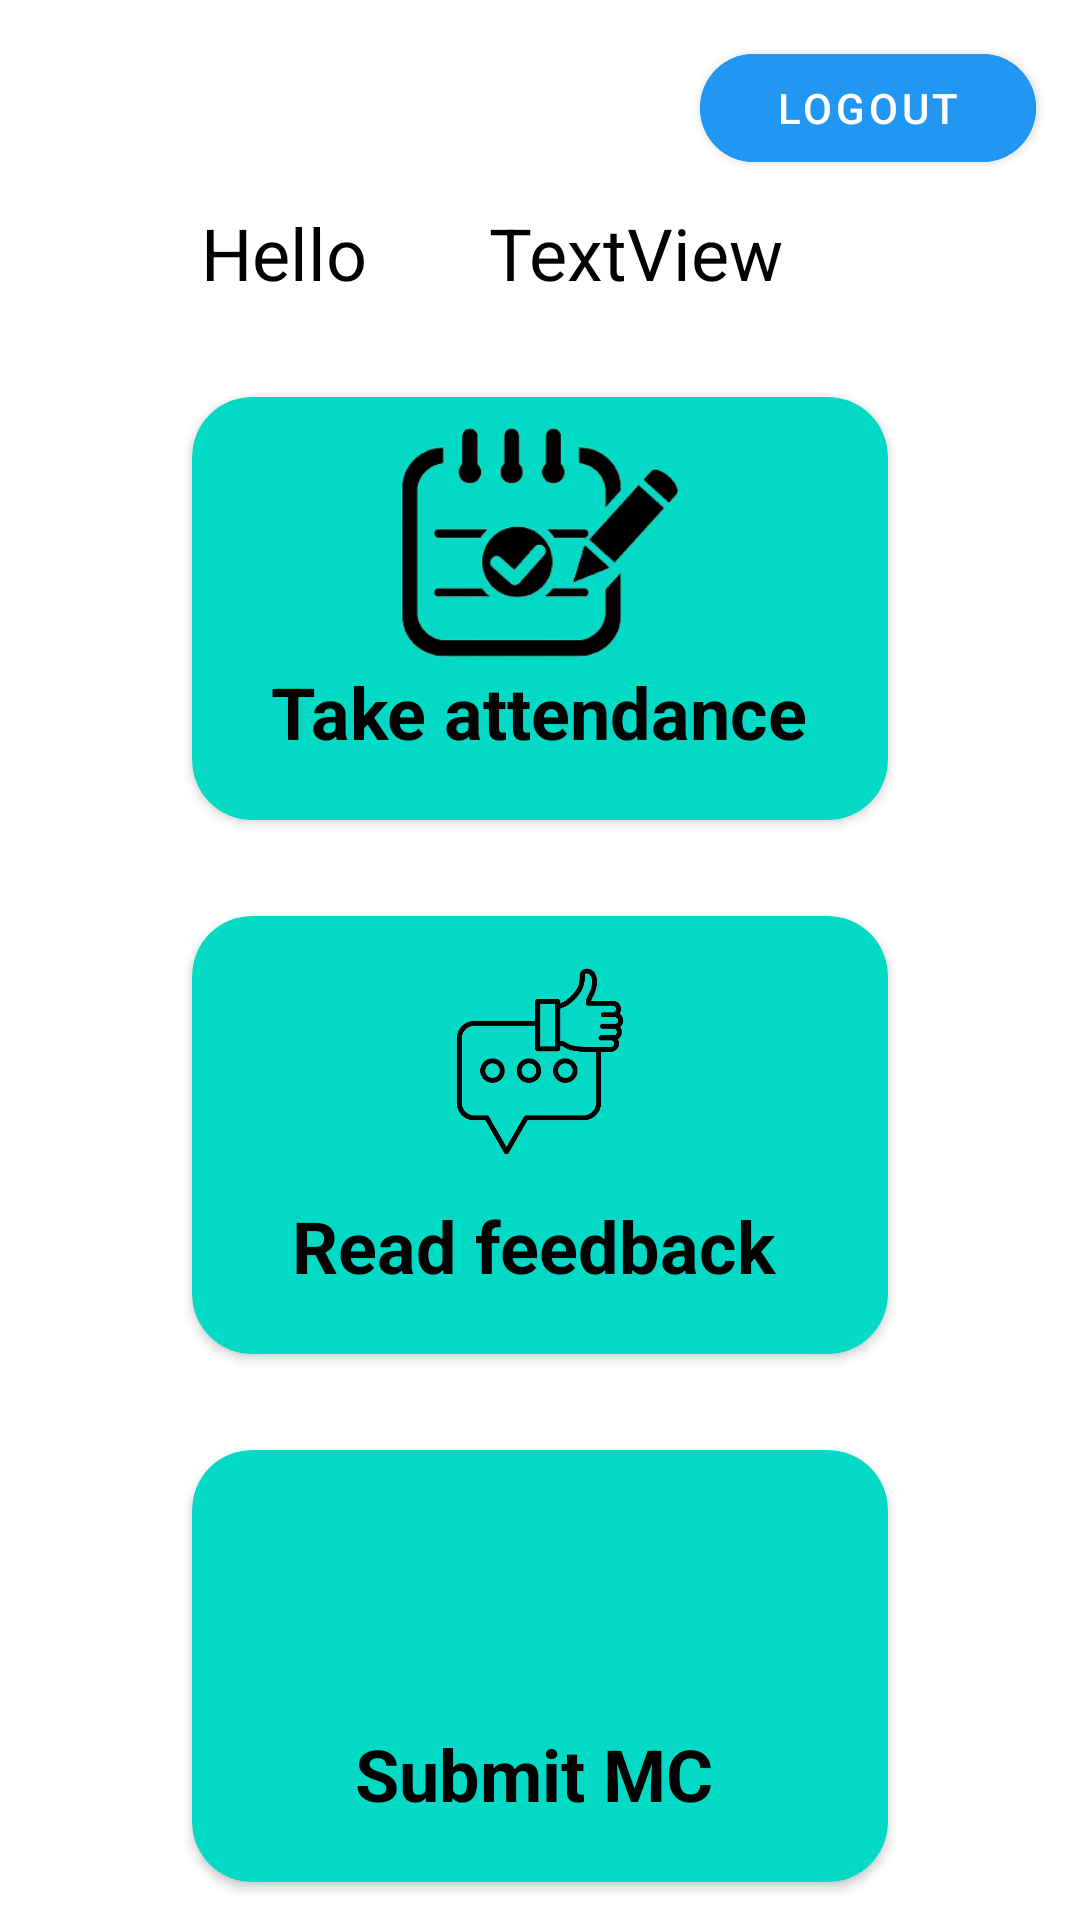

Named icons in this screenshot (1080x1920) and their bounding boxes, (x1, y1, x2, y2):
student feedback: (456, 968, 624, 1155)
